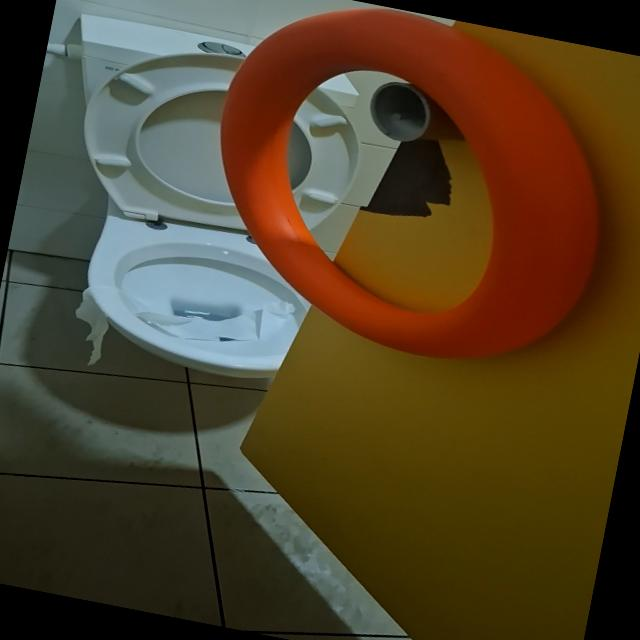note: (182, 0, 636, 386)
